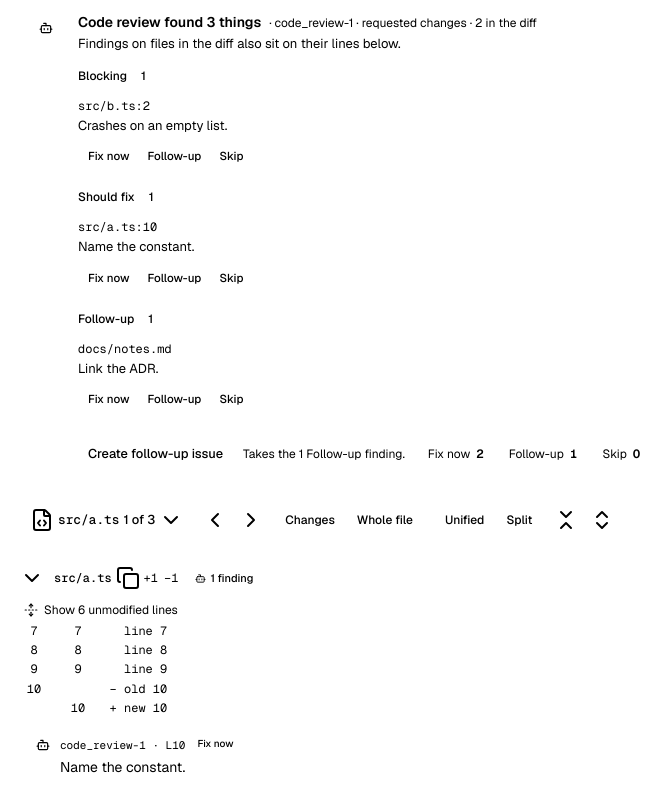
it: an answered review does not say the Fix now findings go back, and its choices still pick a follow-up issue's findings
The image size is (666, 798).
Click the radio button labelled "Follow-up" below "Should fix": [174, 278] box x1=139 y1=266 x2=209 y2=288
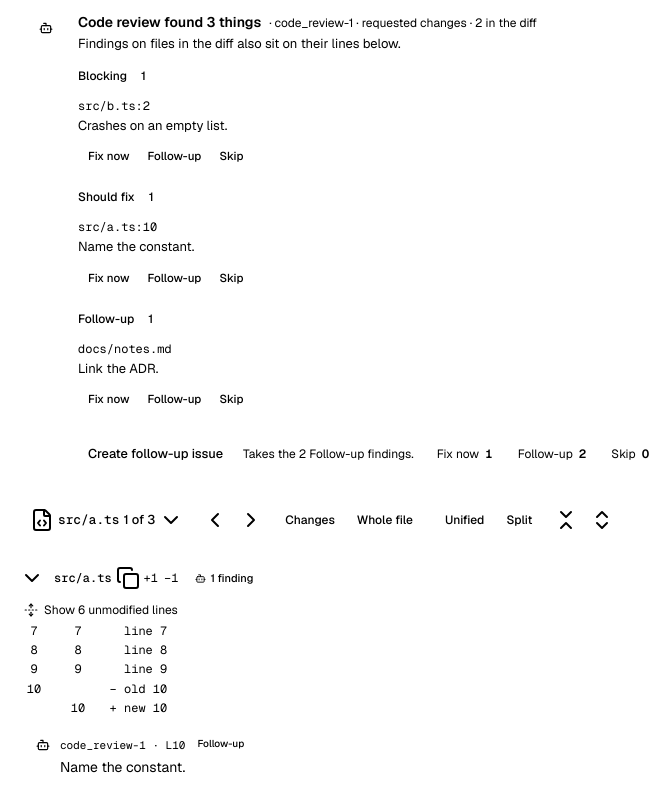
Now the text "Takes the 2 Follow-up findings." is shown, box x1=243 y1=446 x2=414 y2=462
